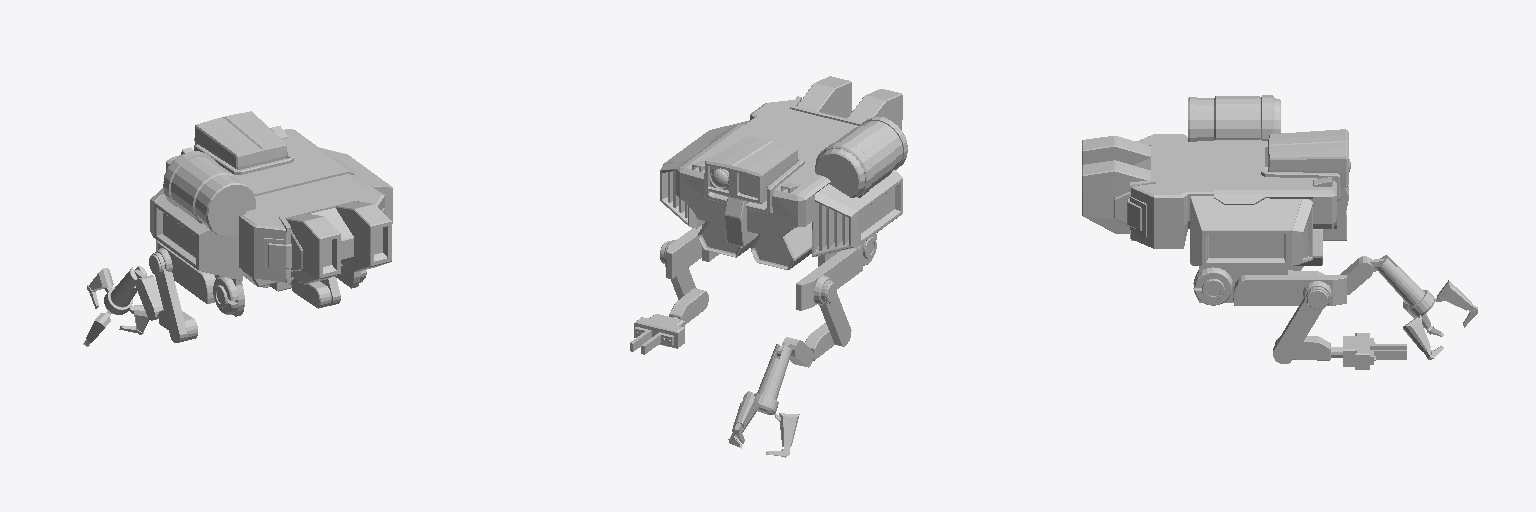
File: boss1.obj
The picture shows the model from 3 angles: view 1: azimuth 30°, elevation 25°; view 2: azimuth 150°, elevation 25°; view 3: azimuth 270°, elevation 25°; orthographic projection.
Parts seen in each view (by area): view 1: polySurface89_lambert1_0.001; view 2: polySurface89_lambert1_0.001; view 3: polySurface89_lambert1_0.001.
Part boxes in pixels (left/top/right/bottom): polySurface89_lambert1_0.001: left=83, top=111, right=392, bottom=346; polySurface89_lambert1_0.001: left=630, top=76, right=907, bottom=457; polySurface89_lambert1_0.001: left=1082, top=95, right=1477, bottom=369.
Bounding box in the file's own units: 2.12 × 2.57 × 3.72.